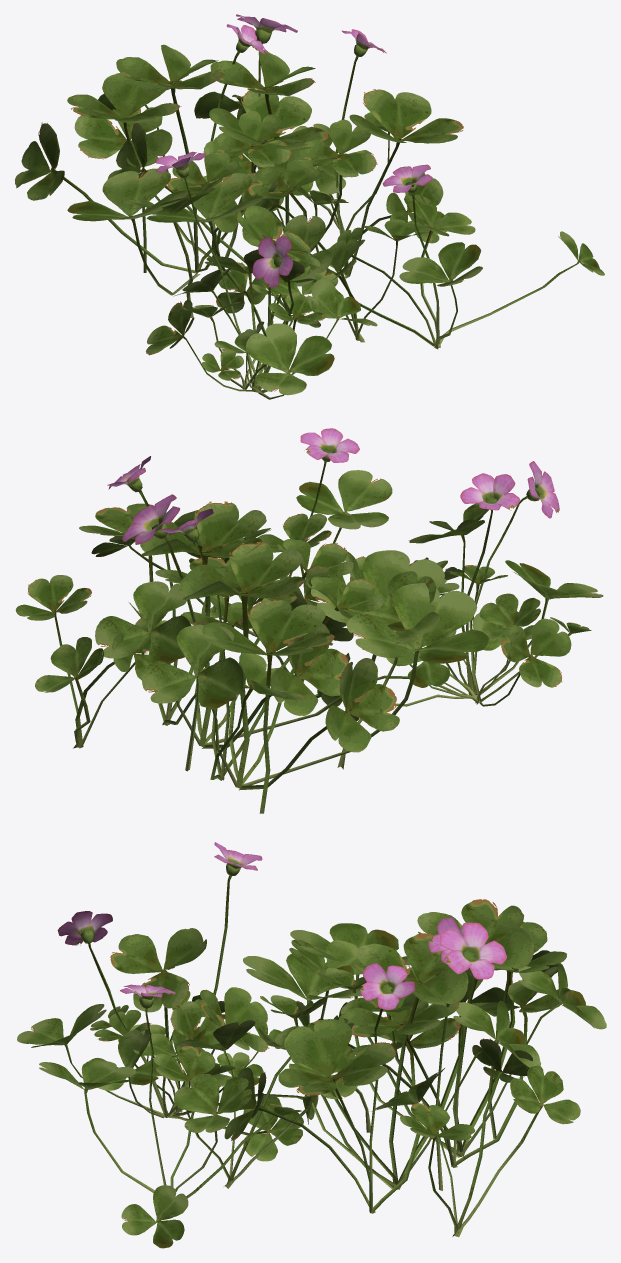
Rendered from sorrel-packed.glb.
3 renders of one model, top to bottom at view 1: azimuth 30°, elevation 25°; view 2: azimuth 150°, elevation 25°; view 3: azimuth 270°, elevation 25°, orthographic. The views are drawn at different scales.
Visible parts, largest first — view 1: sorrel-groundcover; view 2: sorrel-groundcover; view 3: sorrel-groundcover.
Boxes of the visible parts, box(x1,y1,x2,y2) form: sorrel-groundcover: box(15, 14, 604, 399); sorrel-groundcover: box(15, 428, 603, 813); sorrel-groundcover: box(17, 842, 606, 1248).
Size of the model in its own units: 0.1622 by 0.087 by 0.1766.
Materials: 1 (1 with a texture image).
